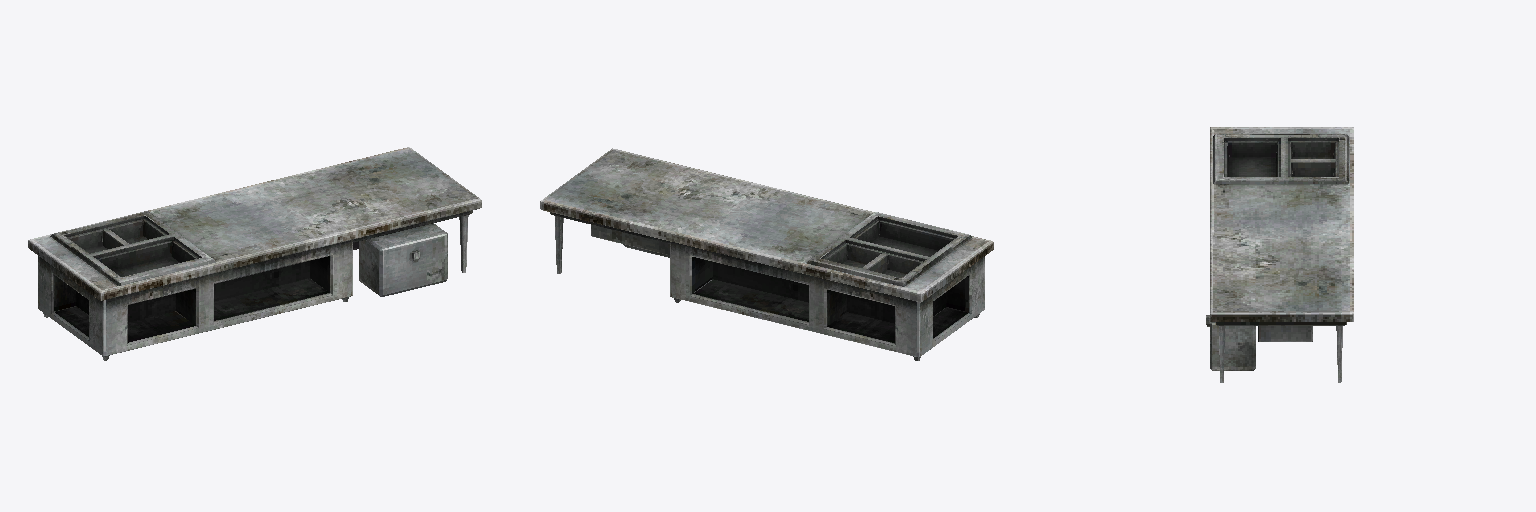
3 renders of one model, left to right at view 1: azimuth 30°, elevation 25°; view 2: azimuth 150°, elevation 25°; view 3: azimuth 270°, elevation 25°, orthographic.
Visible parts, largest first — view 1: AA_Kitchen_CounterA_St; view 2: AA_Kitchen_CounterA_St; view 3: AA_Kitchen_CounterA_St.
Boxes of the visible parts, box(x1,y1,x2,y2) form: AA_Kitchen_CounterA_St: box(28, 147, 481, 360); AA_Kitchen_CounterA_St: box(540, 148, 993, 360); AA_Kitchen_CounterA_St: box(1206, 127, 1353, 382).
Bounding box in the file's own units: 512 × 99.98 × 173.
Materials: 1 (1 with a texture image).